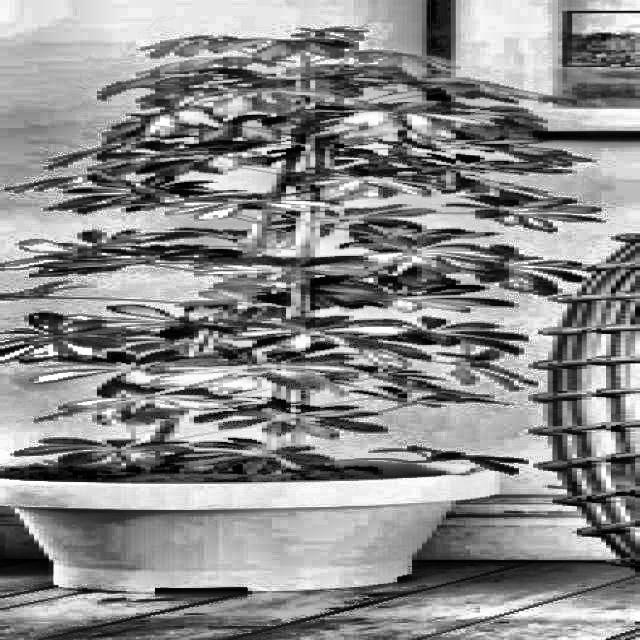plants: (4, 18, 549, 610)
